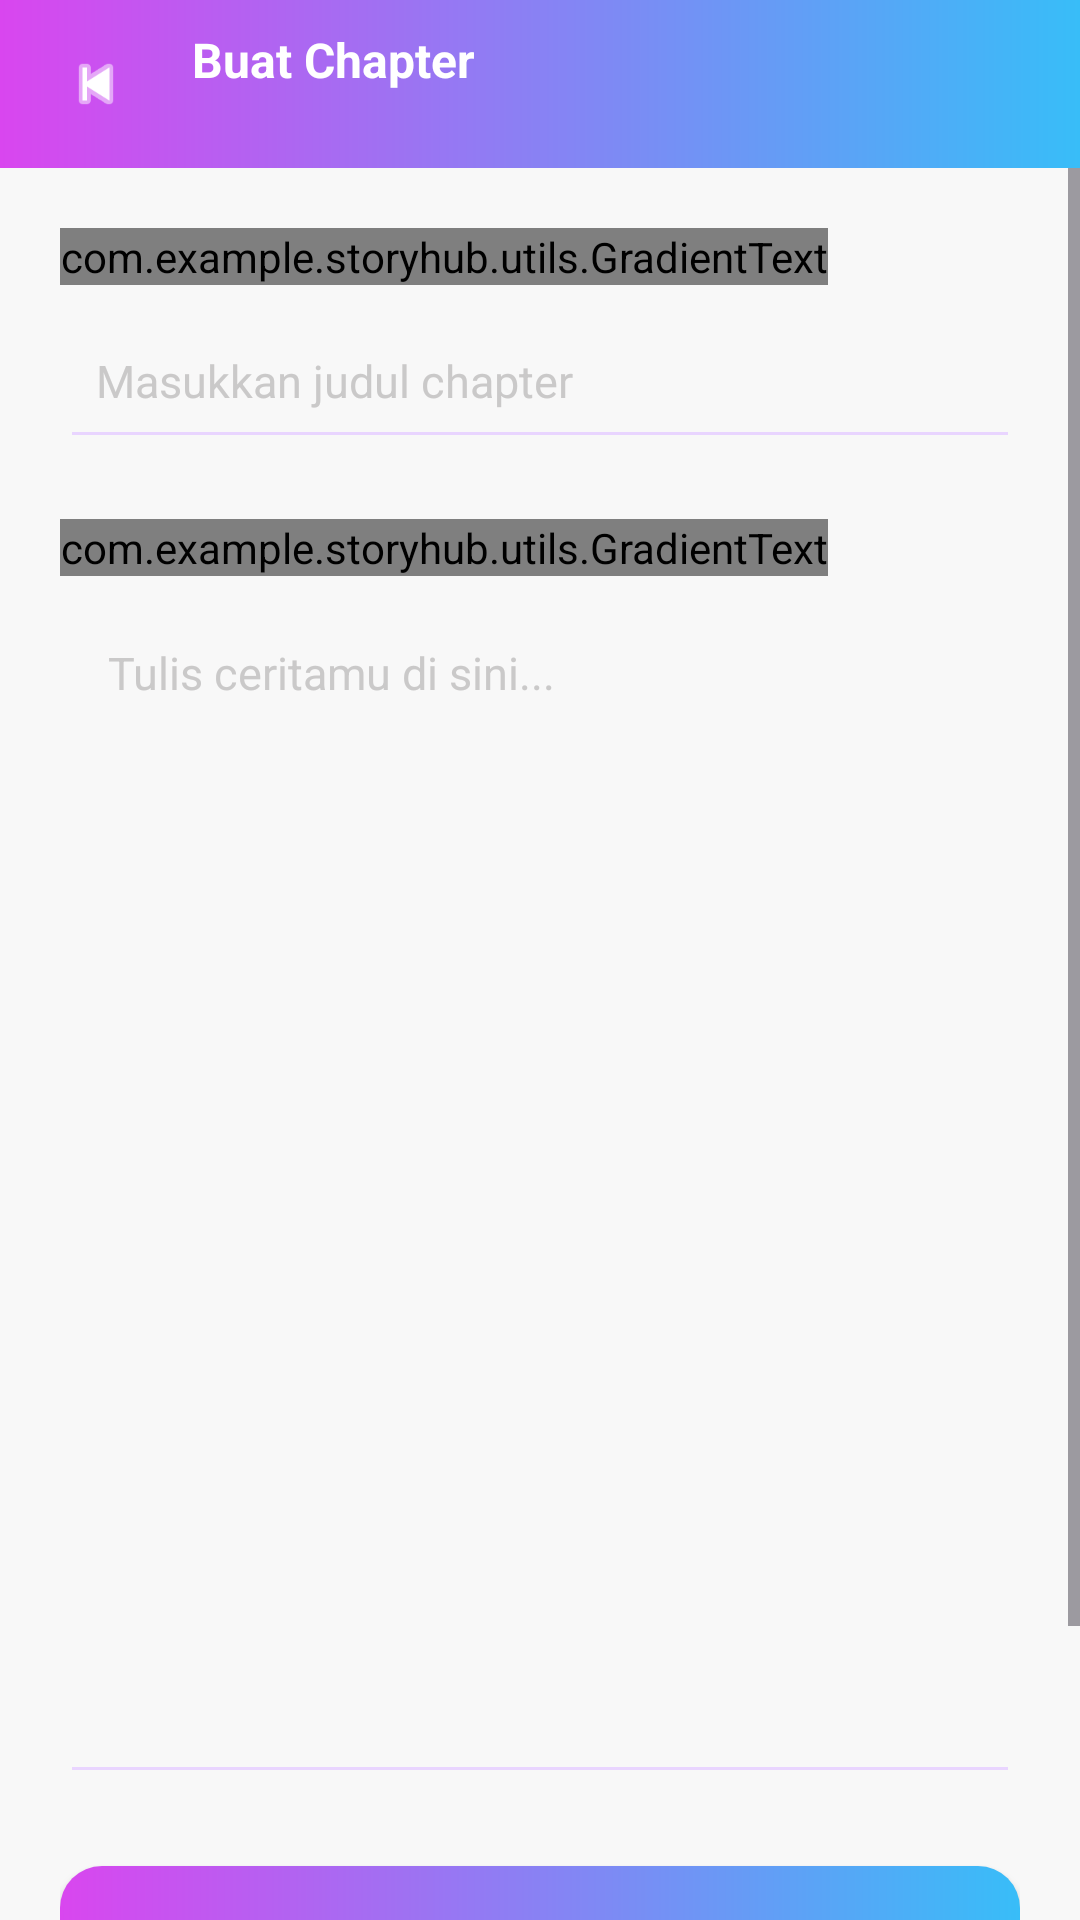

Icon bounding boxes for this 1080w x 1920h phone screenshot, format (x1, y1, x2, y2):
previous: (79, 64, 113, 104)
